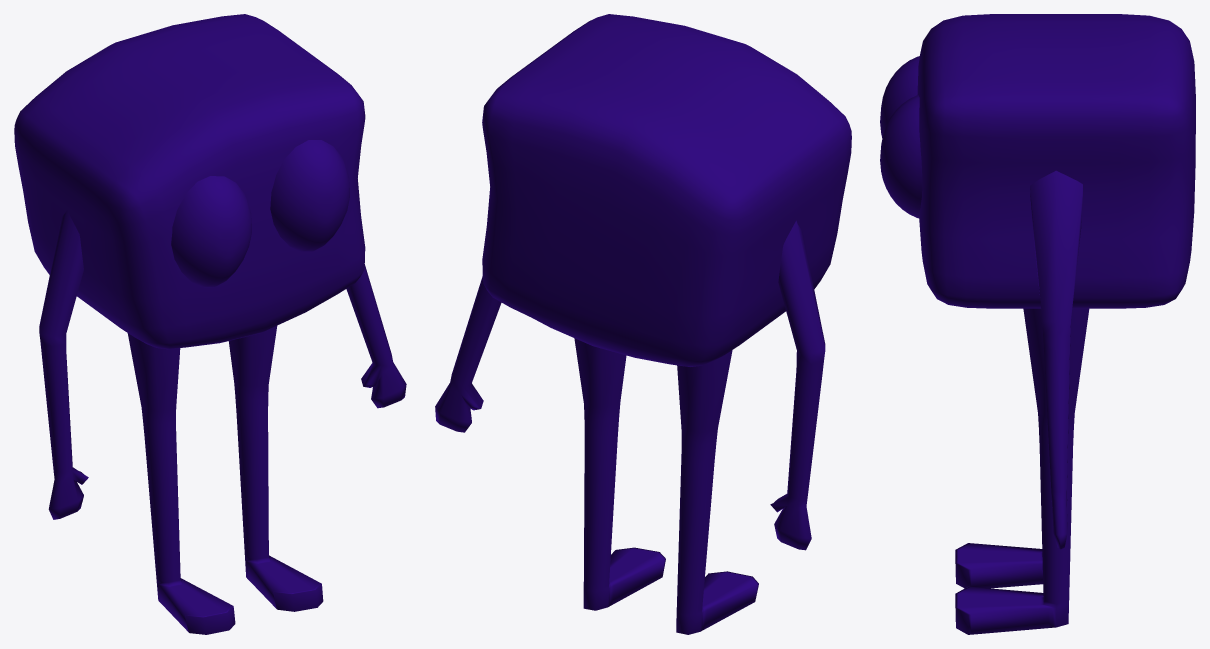
Rendered from vertusher_03.fbx.
3 views of the same model, side by side, from view 1: azimuth 30°, elevation 25°; view 2: azimuth 150°, elevation 25°; view 3: azimuth 270°, elevation 25° (orthographic). The views are drawn at different scales.
Parts seen in each view (by area): view 1: LP_polySurface2; view 2: LP_polySurface2; view 3: LP_polySurface2.
Boxes of the visible parts, left/top/right/bottom form: LP_polySurface2: left=14, top=14, right=406, bottom=634; LP_polySurface2: left=435, top=14, right=851, bottom=634; LP_polySurface2: left=880, top=14, right=1195, bottom=634.
Bounding box in the file's own units: 39 × 53.17 × 27.25.
